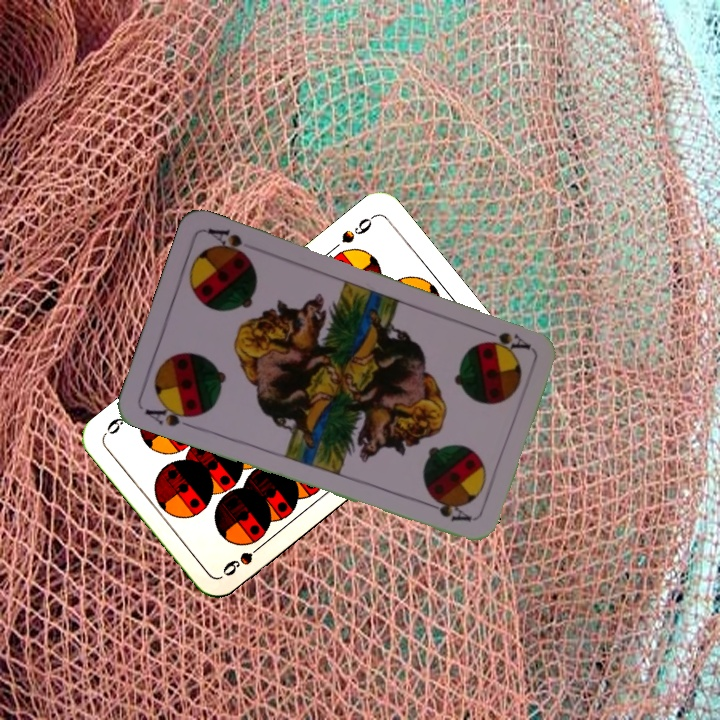S9: (218, 537, 269, 579), (337, 211, 378, 246)
SA: (141, 398, 201, 432), (475, 324, 533, 353)
